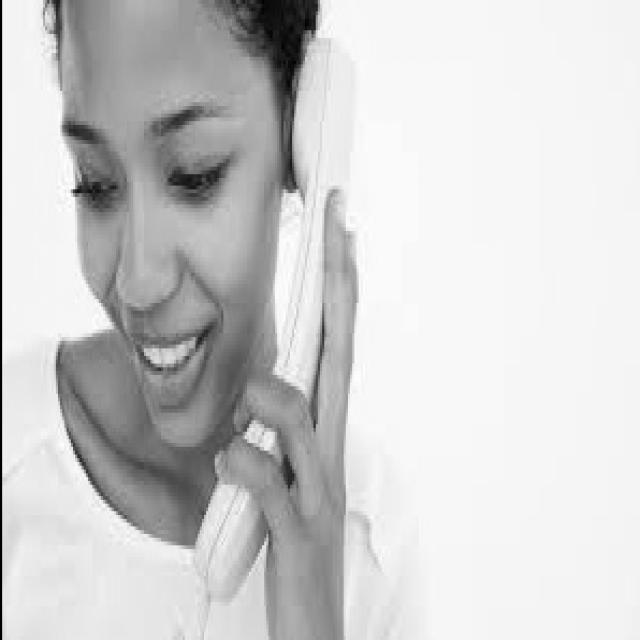phone: (159, 22, 374, 594)
